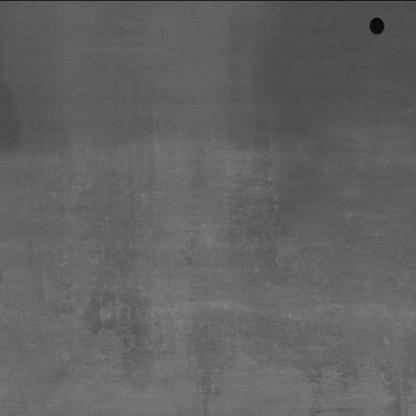punching_hole: (366, 13, 392, 37)
